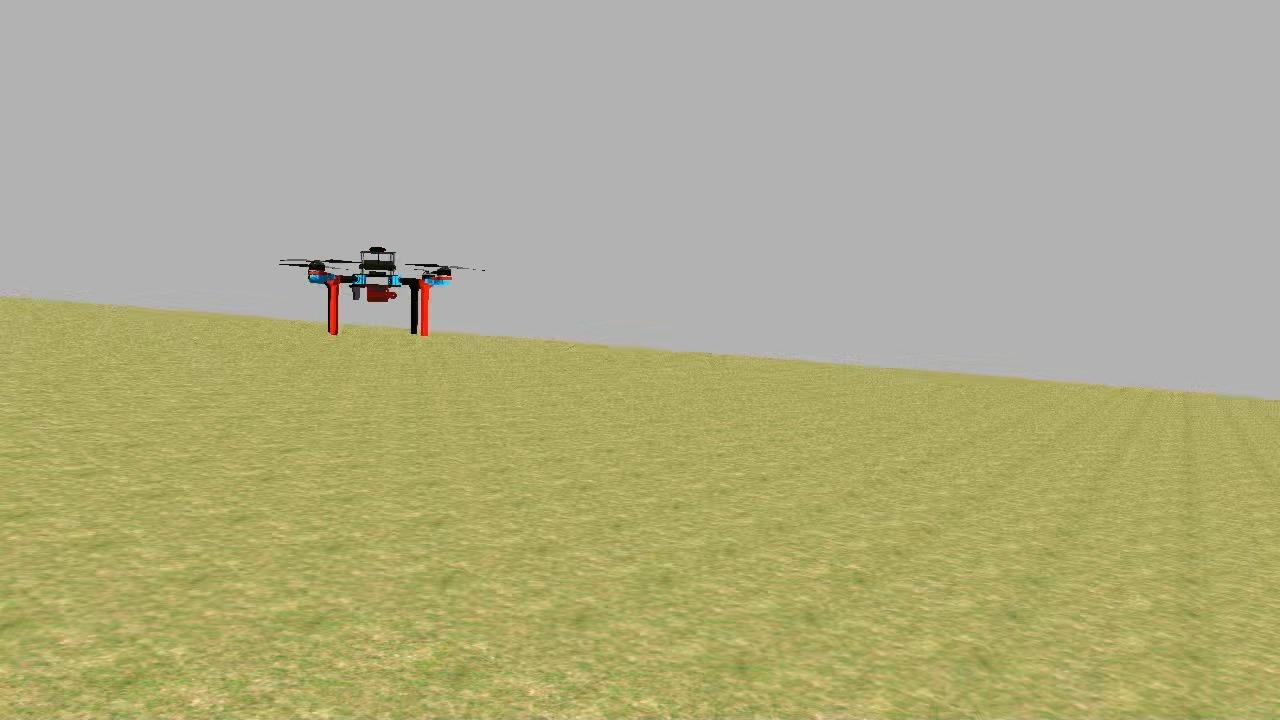UAV: (300, 242, 460, 346)
